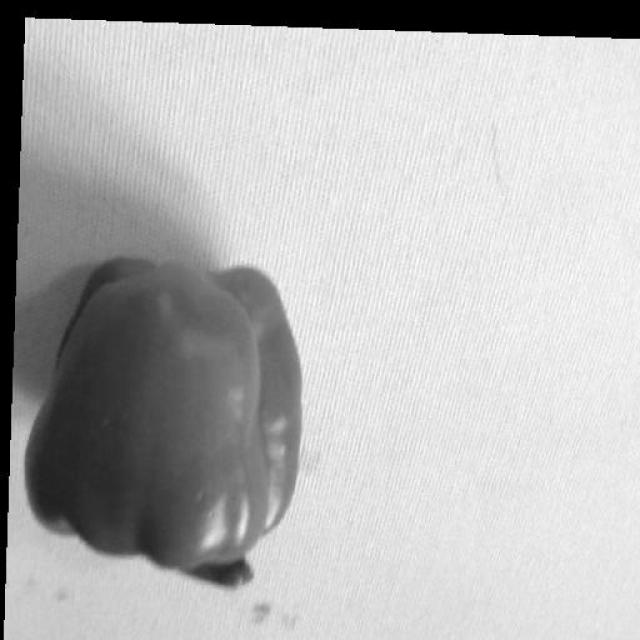Fresh_Capsicum: (61, 234, 312, 603)
